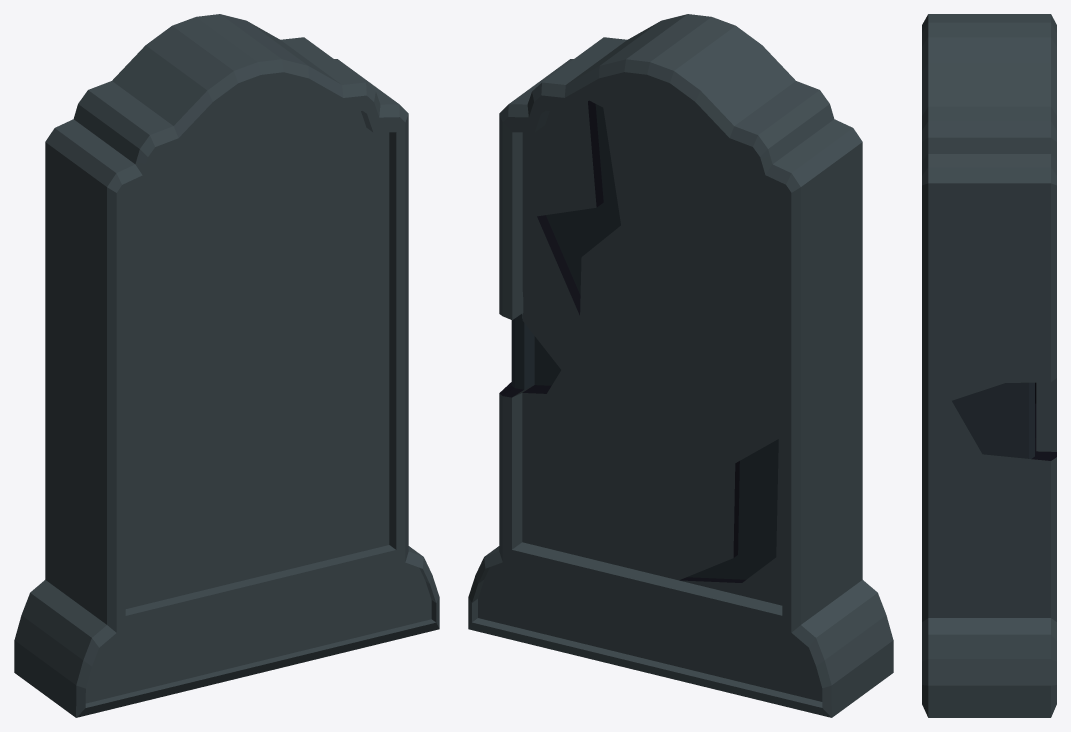
Rendered from Kuburan 1.fbx.
3 renders of one model, left to right at view 1: azimuth 30°, elevation 25°; view 2: azimuth 150°, elevation 25°; view 3: azimuth 270°, elevation 25°, orthographic.
Visible parts, largest first — view 1: Grave.001; view 2: Grave.001; view 3: Grave.001.
Part boxes in pixels (left/top/right/bottom): Grave.001: left=14, top=14, right=439, bottom=717; Grave.001: left=468, top=14, right=893, bottom=717; Grave.001: left=922, top=14, right=1056, bottom=717.
Bounding box in the file's own units: 286 × 459 × 92.36.
